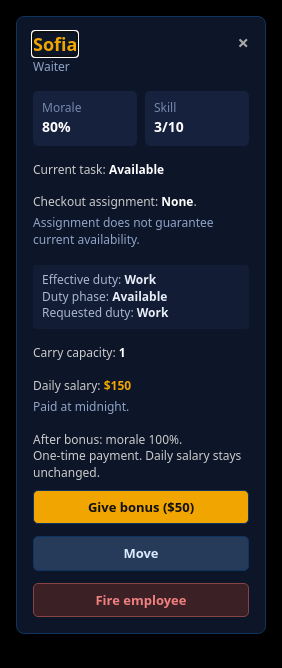
Scenario: StaffDetailsPanel › rejects a repeat bonus once funds are exhausted through the real reducer
What coordinates should you click on to do the following:
click the button "Give bonus ($50)"
I would click on:
 (141, 507)
Its box is [33, 490, 249, 524].
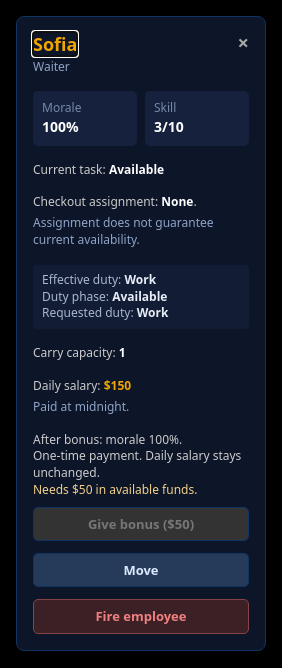
Result: the text "Needs $50 in available funds." is shown at [33, 481, 197, 498]
Result: the button "Give bonus ($50)" is disabled at [33, 507, 249, 541]
